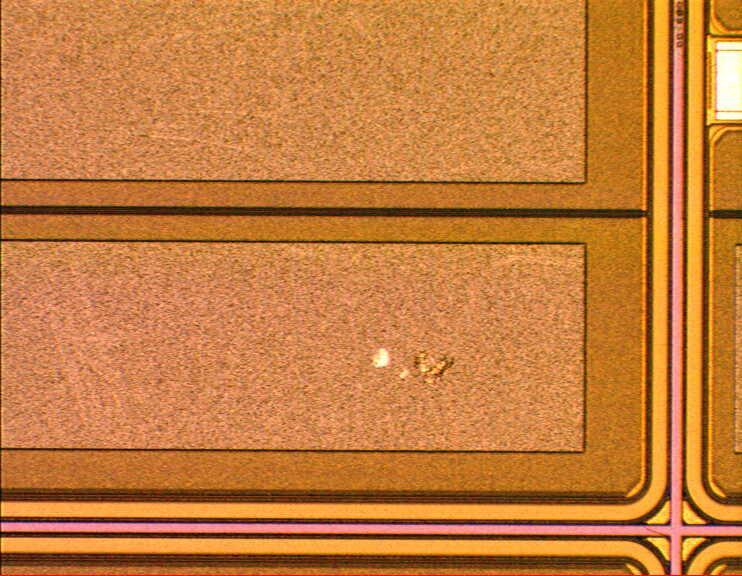SCRATCH: (348, 328, 467, 402)
